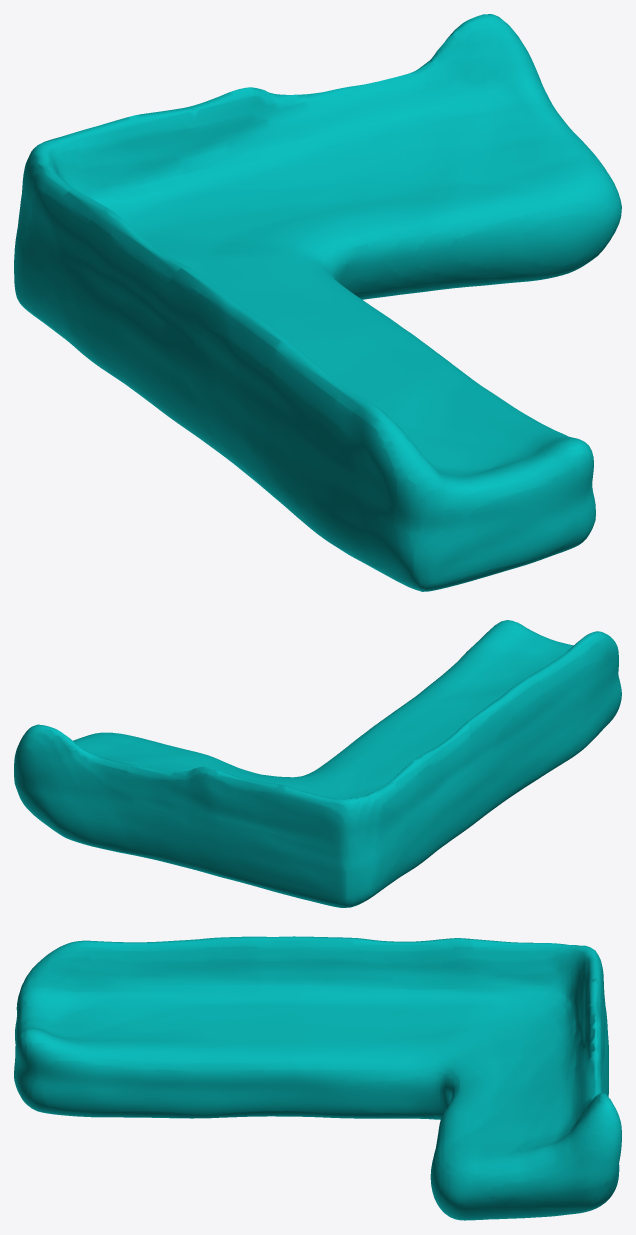
3 views of the same model, one above another, from view 1: azimuth 30°, elevation 25°; view 2: azimuth 150°, elevation 25°; view 3: azimuth 270°, elevation 25° (orthographic). The views are drawn at different scales.
Size of the model in its own units: 0.7723 by 0.2391 by 1.05.
